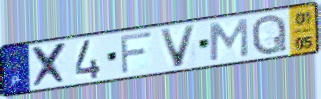4: (74, 38, 102, 81)
F: (118, 29, 154, 77)
M: (208, 16, 251, 63)
Q: (250, 12, 289, 57)
V: (157, 23, 198, 69)
X: (31, 40, 69, 90)
